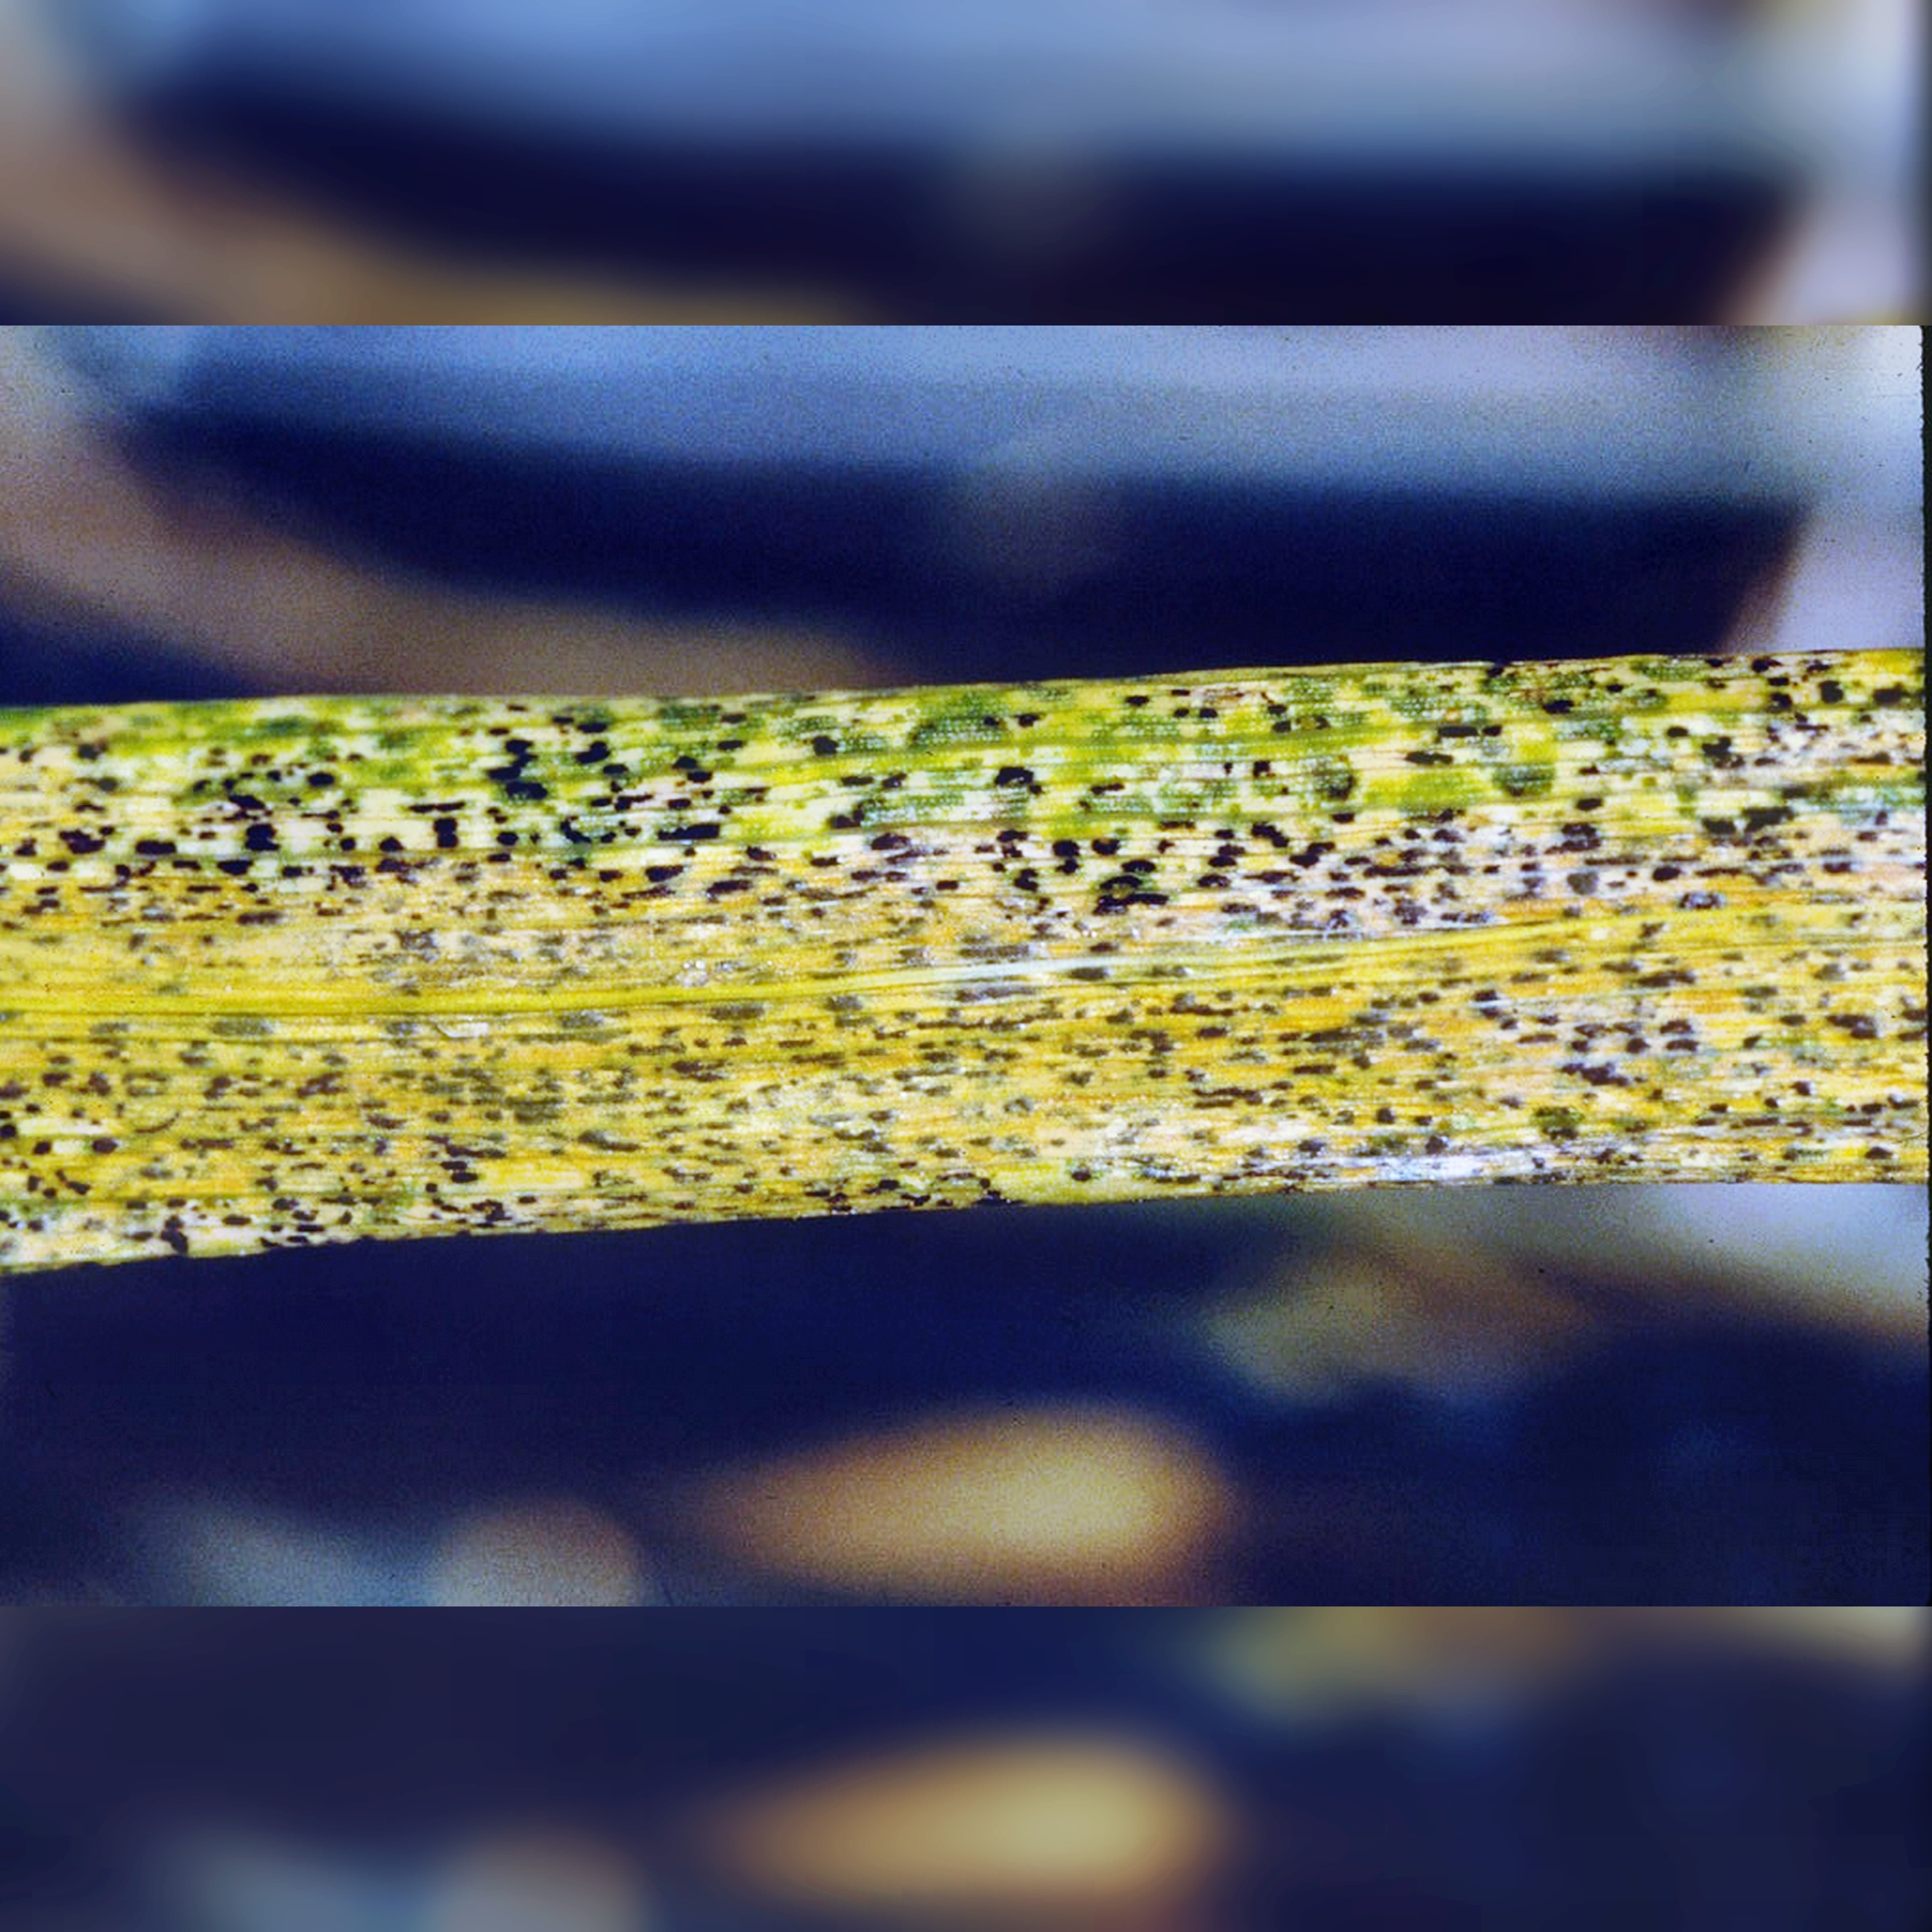Leaf Rust: (67, 651, 1835, 1240)
